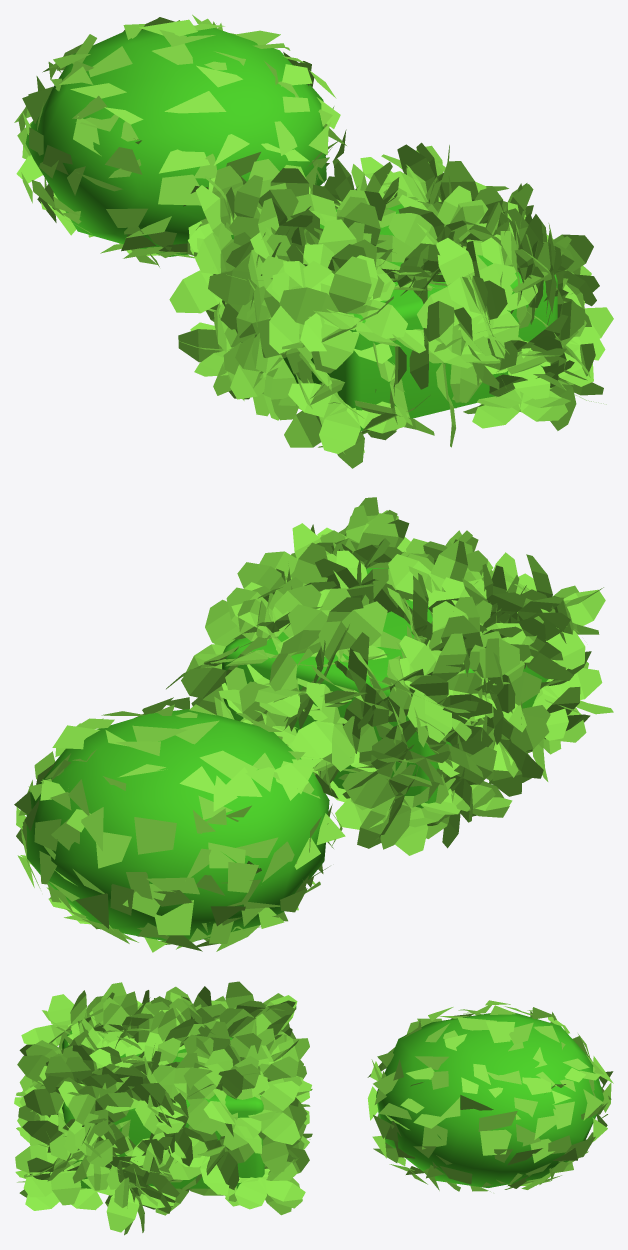
File: arbustos.fbx
3 renders of one model, top to bottom at view 1: azimuth 30°, elevation 25°; view 2: azimuth 150°, elevation 25°; view 3: azimuth 270°, elevation 25°, orthographic. The views are drawn at different scales.
Parts seen in each view (by area): view 1: Cube.001, Cube.002, Cube.002|Plane.003|Dupli|177, Cube.002|Plane.003|Dupli|13, Cube.002|Plane.003|Dupli|27, Cube.002|Plane.003|Dupli|183, Cube.002|Plane.003|Dupli|71, Cube.002|Plane.003|Dupli|55, Cube.002|Plane.003|Dupli|164, Cube.002|Plane.003|Dupli|101, Cube.002|Plane.003|Dupli|52, Cube.002|Plane.003|Dupli|74 (+55 smaller); view 2: Cube.001, Cube.002, Cube.002|Plane.003|Dupli|135, Cube.002|Plane.003|Dupli|91, Cube.002|Plane.003|Dupli|34, Cube.002|Plane.003|Dupli|145, Cube.002|Plane.003|Dupli|178, Cube.002|Plane.003|Dupli|195, Cube.002|Plane.003|Dupli|47, Cube.002|Plane.003|Dupli|82, Cube.002|Plane.003|Dupli|186, Cube.002|Plane.003|Dupli|181 (+50 smaller); view 3: Cube.001, Cube.002, Cube.002|Plane.003|Dupli|105, Cube.002|Plane.003|Dupli|20, Cube.002|Plane.003|Dupli|46, Cube.002|Plane.003|Dupli|4, Cube.002|Plane.003|Dupli|14, Cube.002|Plane.003|Dupli|170, Cube.002|Plane.003|Dupli|122, Cube.002|Plane.003|Dupli|143, Cube.002|Plane.003|Dupli|181, Cube.002|Plane.003|Dupli|127 (+63 smaller).
Part boxes in pixels (left/top/right/bottom): Cube.001: left=14, top=14, right=346, bottom=267; Cube.002: left=231, top=204, right=557, bottom=431; Cube.002|Plane.003|Dupli|177: left=279, top=256, right=396, bottom=373; Cube.002|Plane.003|Dupli|13: left=288, top=383, right=408, bottom=453; Cube.002|Plane.003|Dupli|27: left=417, top=238, right=517, bottom=355; Cube.002|Plane.003|Dupli|183: left=292, top=255, right=407, bottom=369; Cube.002|Plane.003|Dupli|71: left=300, top=260, right=395, bottom=363; Cube.002|Plane.003|Dupli|55: left=284, top=359, right=376, bottom=468; Cube.002|Plane.003|Dupli|164: left=409, top=270, right=454, bottom=389; Cube.002|Plane.003|Dupli|101: left=388, top=185, right=471, bottom=249; Cube.002|Plane.003|Dupli|52: left=208, top=234, right=290, bottom=305; Cube.002|Plane.003|Dupli|74: left=260, top=256, right=299, bottom=353; Cube.001: left=14, top=697, right=345, bottom=952; Cube.002: left=222, top=568, right=548, bottom=807; Cube.002|Plane.003|Dupli|135: left=342, top=759, right=422, bottom=848; Cube.002|Plane.003|Dupli|91: left=288, top=601, right=387, bottom=649; Cube.002|Plane.003|Dupli|34: left=334, top=632, right=389, bottom=753; Cube.002|Plane.003|Dupli|145: left=518, top=573, right=605, bottom=669; Cube.002|Plane.003|Dupli|178: left=389, top=633, right=481, bottom=709; Cube.002|Plane.003|Dupli|195: left=532, top=668, right=602, bottom=740; Cube.002|Plane.003|Dupli|47: left=335, top=778, right=455, bottom=855; Cube.002|Plane.003|Dupli|82: left=399, top=635, right=471, bottom=740; Cube.002|Plane.003|Dupli|186: left=455, top=596, right=519, bottom=721; Cube.002|Plane.003|Dupli|181: left=181, top=637, right=267, bottom=714; Cube.001: left=367, top=1000, right=613, bottom=1191; Cube.002: left=62, top=1031, right=264, bottom=1188; Cube.002|Plane.003|Dupli|105: left=223, top=1081, right=300, bottom=1150; Cube.002|Plane.003|Dupli|20: left=152, top=1063, right=224, bottom=1134; Cube.002|Plane.003|Dupli|46: left=15, top=1114, right=81, bottom=1205; Cube.002|Plane.003|Dupli|4: left=234, top=1168, right=305, bottom=1209; Cube.002|Plane.003|Dupli|14: left=23, top=1056, right=111, bottom=1116; Cube.002|Plane.003|Dupli|170: left=21, top=994, right=74, bottom=1050; Cube.002|Plane.003|Dupli|122: left=82, top=1178, right=175, bottom=1232; Cube.002|Plane.003|Dupli|143: left=58, top=1077, right=133, bottom=1154; Cube.002|Plane.003|Dupli|181: left=259, top=1091, right=306, bottom=1174; Cube.002|Plane.003|Dupli|127: left=219, top=1002, right=293, bottom=1038.
Bounding box in the file's own units: 150 × 101 × 320.
